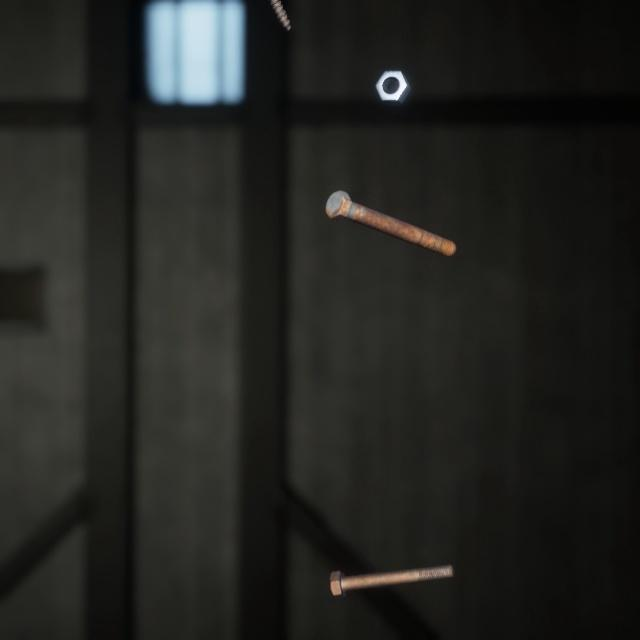bolt: (321, 170, 460, 246), (325, 537, 458, 581), (267, 0, 295, 28)
nut: (370, 56, 415, 97)
